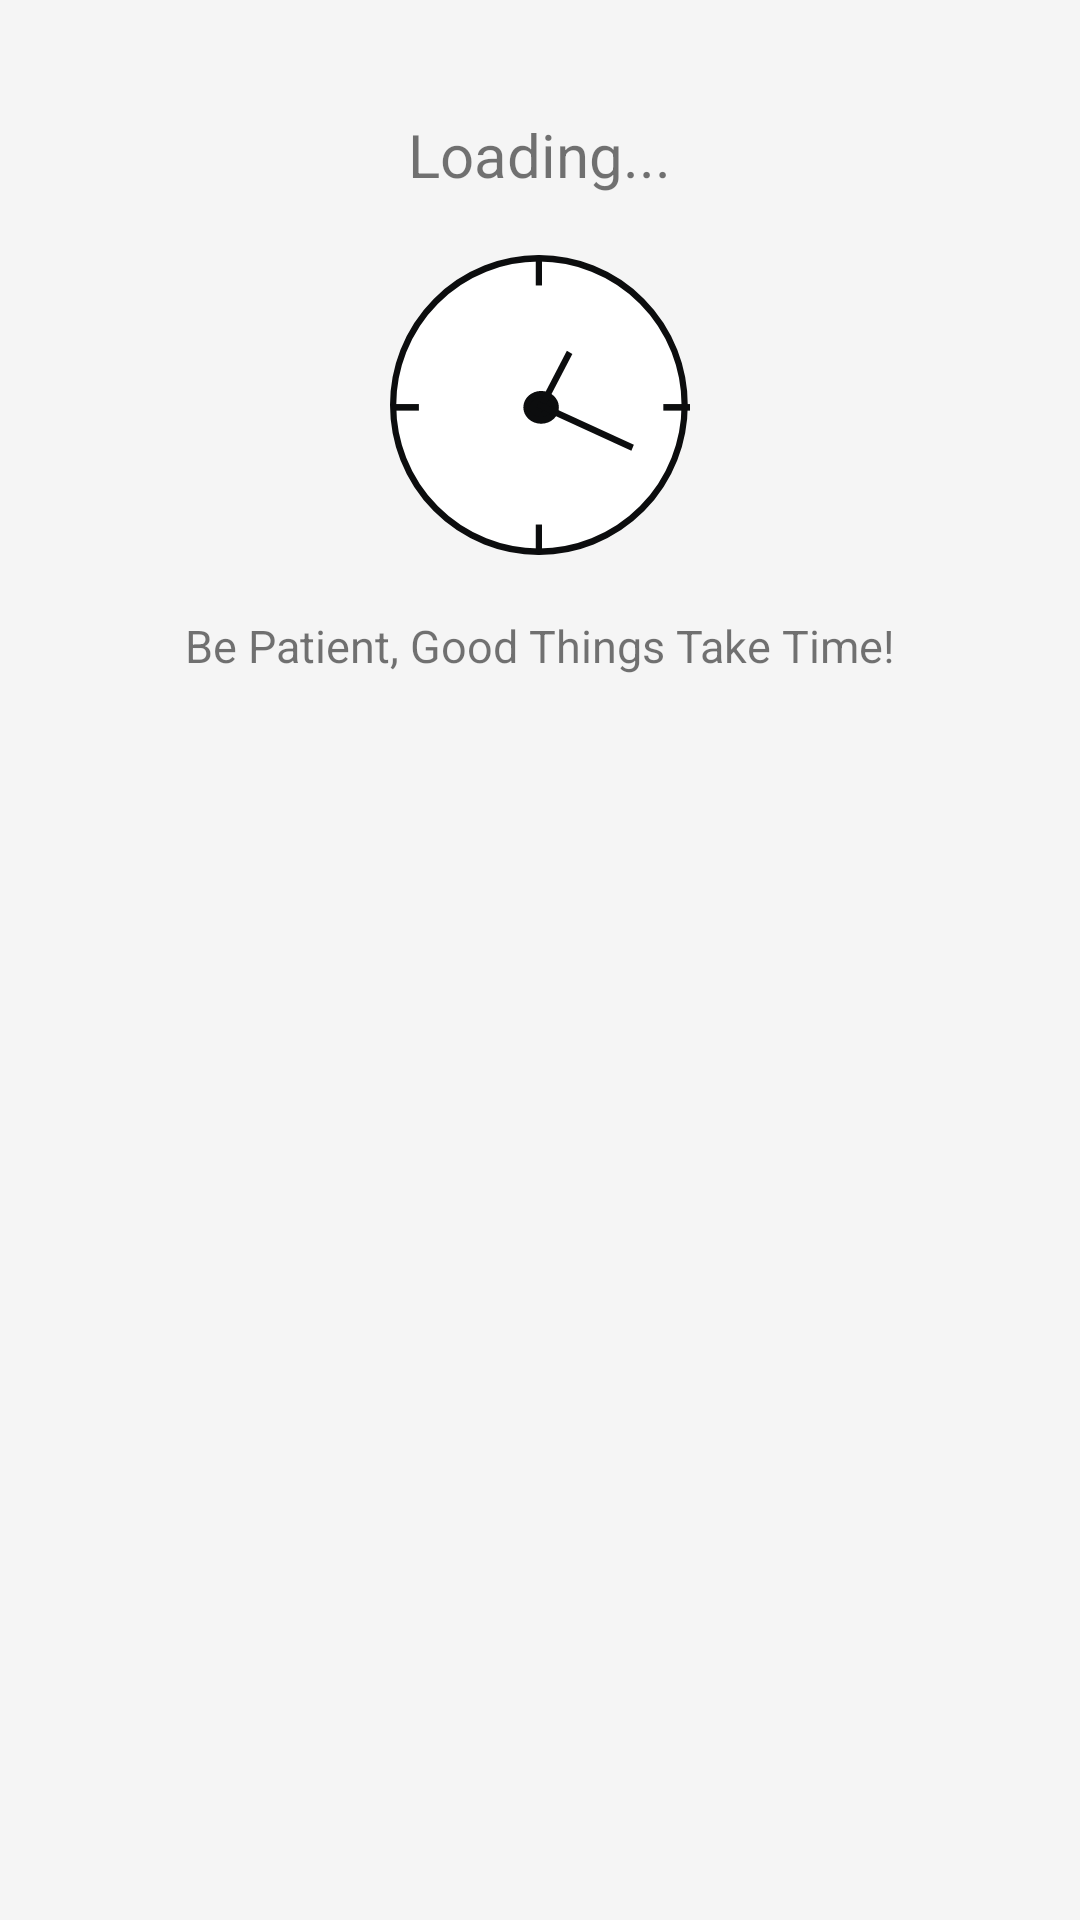

Icons on this 1080×1920 Android screen, each with the point to tap as (x=x, y=y):
clock: (x=540, y=405)
